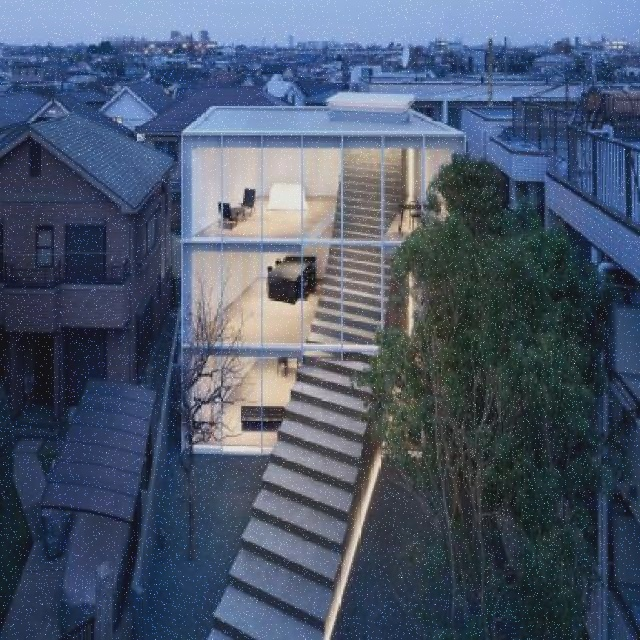stair: (239, 356, 390, 636), (314, 138, 400, 342)
